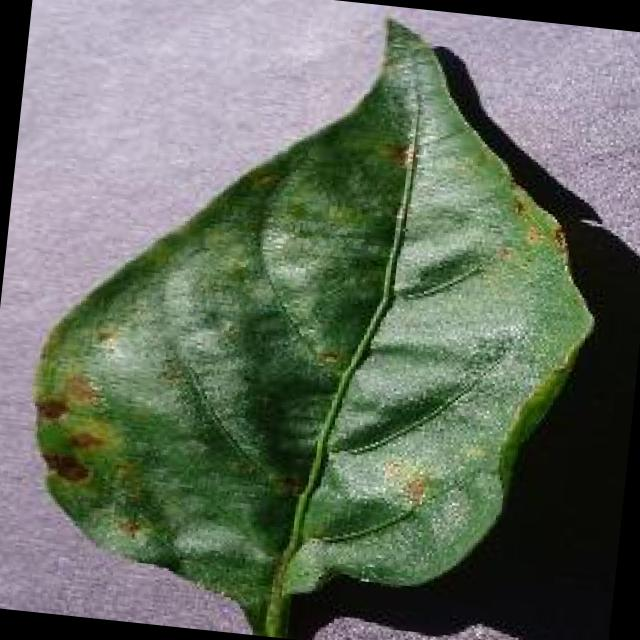Chilli_Bacterial_Spot: (5, 0, 625, 640), (16, 360, 171, 552), (21, 364, 126, 494), (489, 175, 578, 274), (373, 452, 436, 512), (36, 446, 92, 489), (54, 366, 104, 412), (103, 451, 147, 500), (374, 134, 420, 172), (62, 424, 108, 458), (85, 318, 124, 356), (396, 470, 430, 510), (30, 390, 70, 424), (307, 342, 345, 372), (111, 512, 146, 542)
